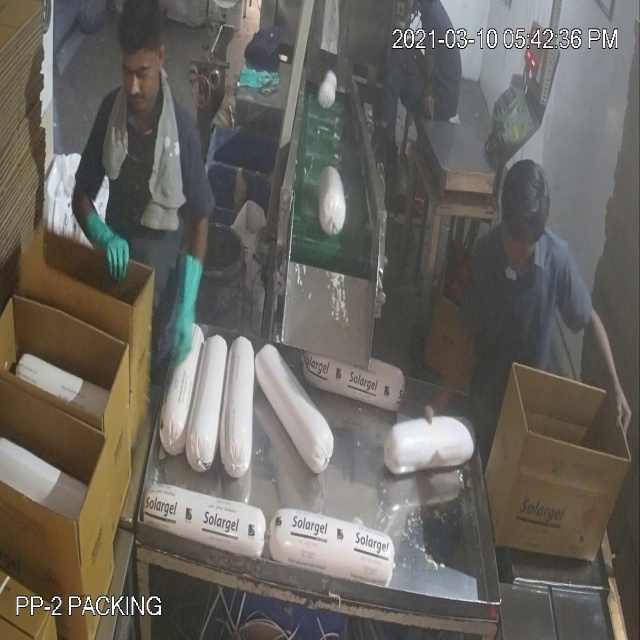Guantes: (151, 232, 210, 370), (77, 192, 138, 299)
Sin_guantes: (568, 280, 632, 456), (423, 292, 482, 444)
